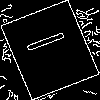I: (25, 25, 76, 55)
